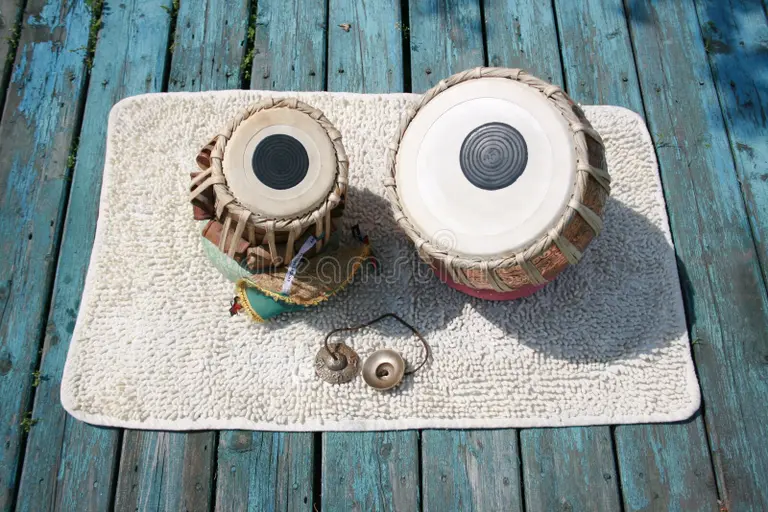tabla: (385, 66, 613, 287), (197, 96, 352, 277)
